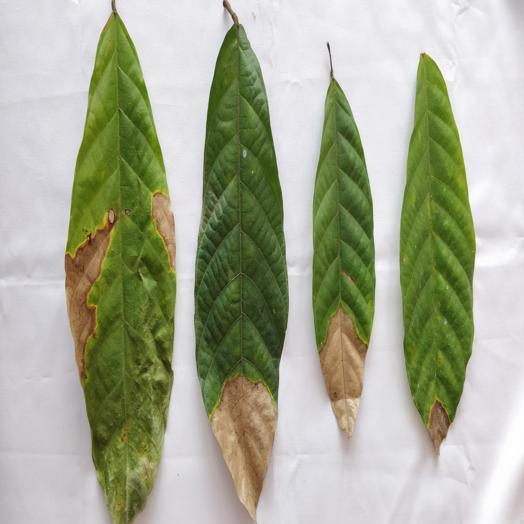Potassium: (65, 0, 175, 523), (196, 0, 288, 518), (400, 54, 475, 452), (314, 44, 373, 437)
